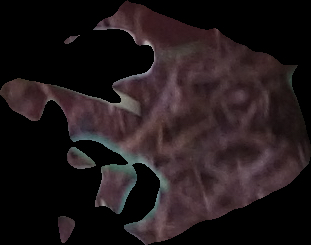soil: (4, 3, 310, 244)
